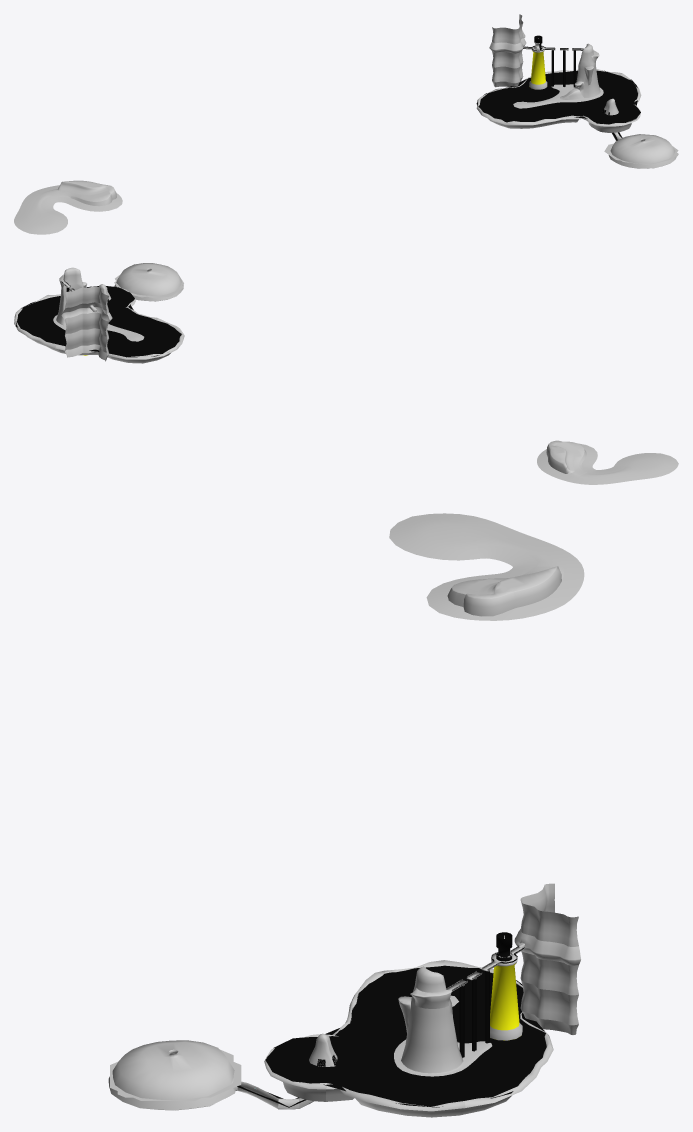
File: eco3.obj
3 views of the same model, one above another, from view 1: azimuth 30°, elevation 25°; view 2: azimuth 150°, elevation 25°; view 3: azimuth 270°, elevation 25° (orthographic). The views are drawn at different scales.
Visible parts, largest first — view 1: object_0011B0F8, object_000E522C, object_000E60E8, object_000F3B28, object_000E71B8, object_0011496C, object_000E7DB0, object_001191CC, object_00119198, object_000EF7B0, object_00112DA4, object_0010C7C0 (+3 smaller); view 2: object_0011B0F8, object_000E522C, object_000E60E8, object_000E71B8, object_000EF7B0, object_001191CC, object_00119198, object_000E7DB0, object_000F3B28, object_000EDBB8, object_00112DA4, object_00110DC8 (+2 smaller); view 3: object_0011B0F8, object_000E522C, object_000F3B28, object_000E60E8, object_000E7DB0, object_000E71B8, object_001191CC, object_0011496C, object_00119198, object_000EF7B0, object_00112DA4, object_0010E2D0 (+3 smaller).
Boxes of the visible parts, <box> form: object_0011B0F8: <box>476,70,640,124</box>; object_000E522C: <box>608,134,676,168</box>; object_000E60E8: <box>14,210,67,234</box>; object_000F3B28: <box>575,43,600,97</box>; object_000E71B8: <box>17,187,58,212</box>; object_0011496C: <box>529,46,547,89</box>; object_000E7DB0: <box>47,185,122,211</box>; object_001191CC: <box>492,14,523,44</box>; object_00119198: <box>492,55,523,83</box>; object_000EF7B0: <box>492,50,523,68</box>; object_00112DA4: <box>58,180,106,192</box>; object_0010C7C0: <box>482,112,545,128</box>; object_0011B0F8: <box>16,286,181,357</box>; object_000E522C: <box>114,263,183,301</box>; object_000E60E8: <box>614,453,678,479</box>; object_000E71B8: <box>568,466,638,484</box>; object_000EF7B0: <box>65,312,108,339</box>; object_001191CC: <box>65,286,108,313</box>; object_00119198: <box>65,328,108,355</box>; object_000E7DB0: <box>537,443,597,481</box>; object_000F3B28: <box>56,267,83,325</box>; object_000EDBB8: <box>61,302,112,322</box>; object_00112DA4: <box>548,445,570,473</box>; object_00110DC8: <box>108,346,176,363</box>; object_0011B0F8: <box>265,965,546,1107</box>; object_000E522C: <box>108,1040,235,1110</box>; object_000F3B28: <box>401,966,463,1073</box>; object_000E60E8: <box>389,513,510,560</box>; object_000E7DB0: <box>426,569,584,620</box>; object_000E71B8: <box>475,528,584,574</box>; object_001191CC: <box>520,883,578,946</box>; object_0011496C: <box>490,954,522,1040</box>; object_00119198: <box>520,980,578,1025</box>; object_000EF7B0: <box>520,951,578,995</box>; object_00112DA4: <box>487,566,561,607</box>; object_0010E2D0: <box>338,1087,465,1117</box>.
Size of the model in its own units: 6879 by 877 by 2317.
